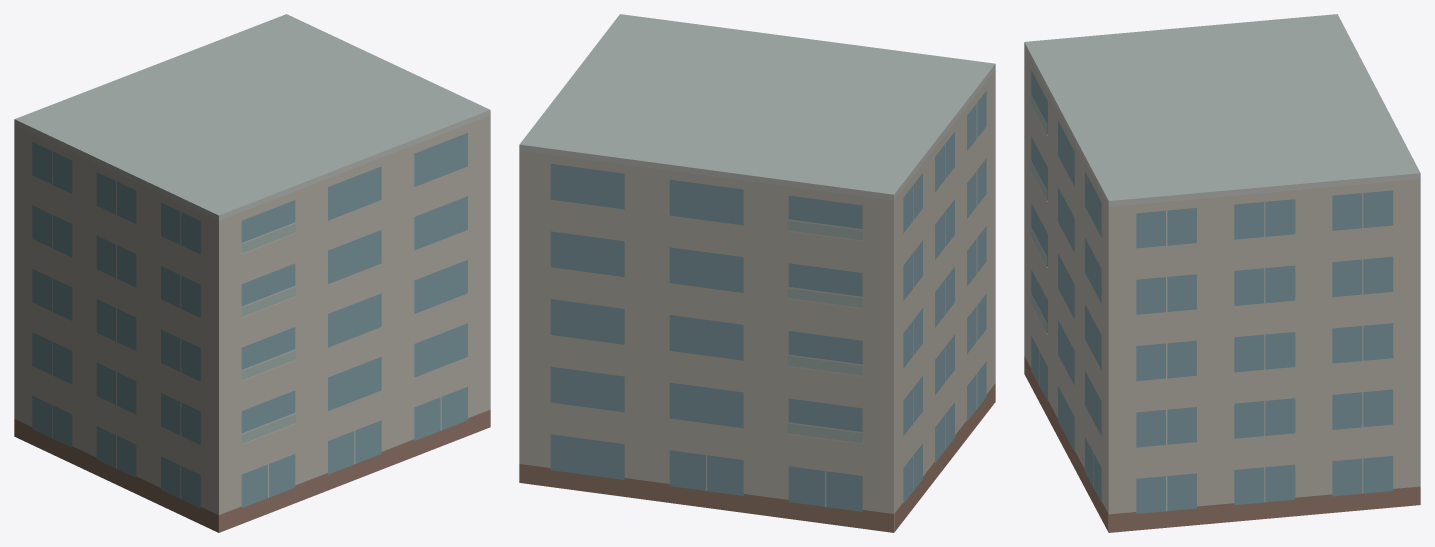
File: survey-upis-32489215.glb
The picture shows the model from 3 angles, left to right: view 1: azimuth 30°, elevation 25°; view 2: azimuth 150°, elevation 25°; view 3: azimuth 270°, elevation 25°; orthographic projection. The views are drawn at different scales.
Parts seen in each view (by area): view 1: survey-upis-32489215.tmp; view 2: survey-upis-32489215.tmp; view 3: survey-upis-32489215.tmp.
Boxes of the visible parts, x1,y1,x2,y2 form: survey-upis-32489215.tmp: (14,14,490,532); survey-upis-32489215.tmp: (519,14,995,532); survey-upis-32489215.tmp: (1024,14,1420,532).
Size of the model in its own units: 17.05 by 14.1 by 15.27.
